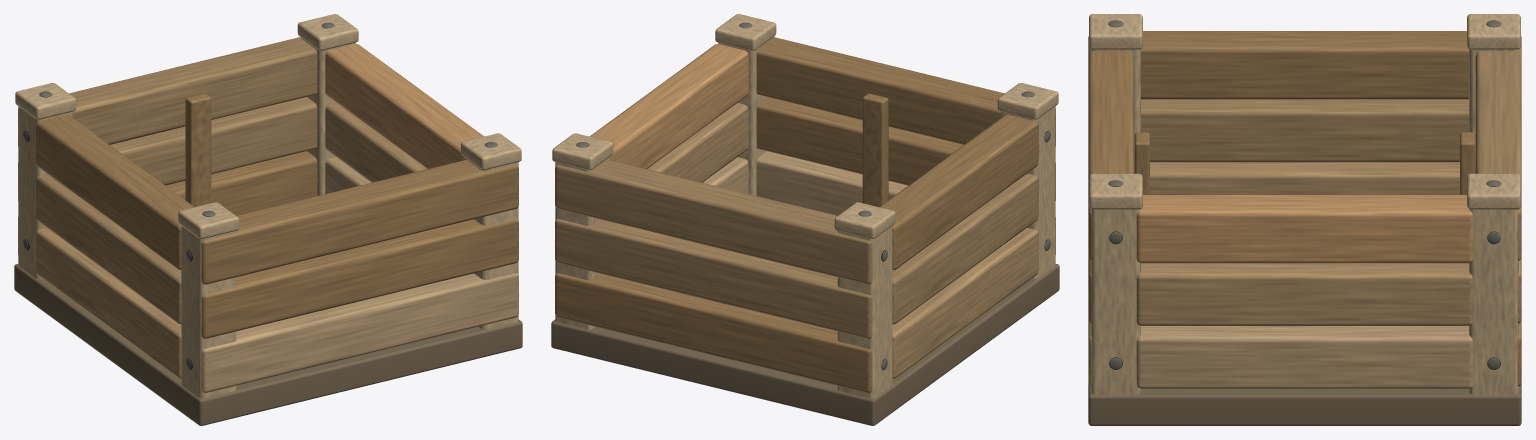
File: wall-master.glb
The picture shows the model from 3 angles, left to right: view 1: azimuth 30°, elevation 25°; view 2: azimuth 150°, elevation 25°; view 3: azimuth 270°, elevation 25°; orthographic projection. The views are drawn at different scales.
Visible parts, largest first — view 1: Pallet wall / one cell; view 2: Pallet wall / one cell; view 3: Pallet wall / one cell.
Part boxes in pixels (left/top/right/bottom): Pallet wall / one cell: left=14, top=14, right=522, bottom=425; Pallet wall / one cell: left=551, top=14, right=1059, bottom=425; Pallet wall / one cell: left=1088, top=14, right=1521, bottom=425.
Size of the model in its own units: 1 by 0.595 by 1.
Materials: 13 (13 with a texture image).
